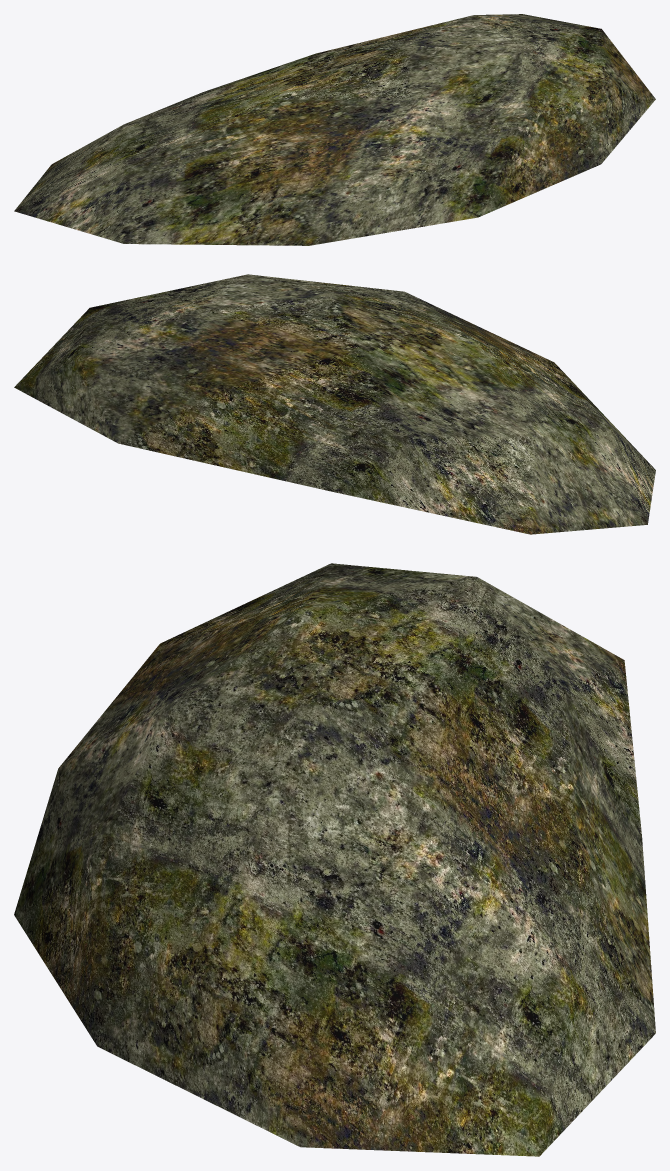
Rendered from NW_NATURE_STONE_BIGFLAT_01.glb.
3 views of the same model, one above another, from view 1: azimuth 30°, elevation 25°; view 2: azimuth 150°, elevation 25°; view 3: azimuth 270°, elevation 25° (orthographic). The views are drawn at different scales.
Parts seen in each view (by area): view 1: Mesh; view 2: Mesh; view 3: Mesh.
Part boxes in pixels (x1,y1,x2,y2): Mesh: (14, 14, 655, 245); Mesh: (14, 274, 655, 534); Mesh: (14, 563, 655, 1156).
Bounding box in the file's own units: 15.91 × 2.83 × 7.63.
Materials: 1 (1 with a texture image).
